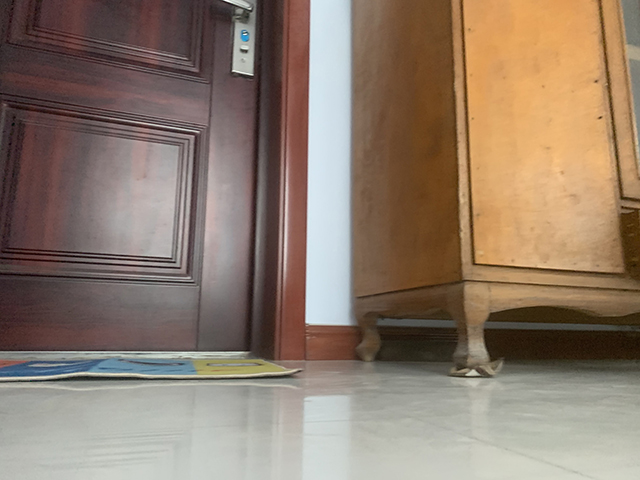cabinet: (349, 1, 639, 378)
carpet: (1, 355, 304, 381)
